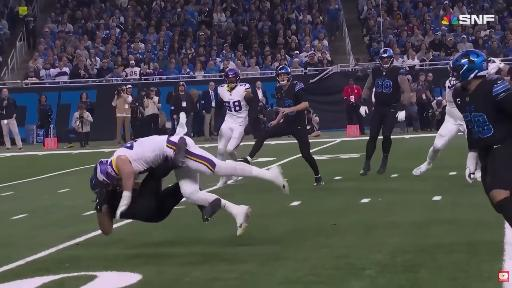Helmet: (449, 50, 487, 83), (94, 159, 117, 183), (90, 166, 103, 193), (224, 68, 240, 87), (379, 48, 393, 68), (276, 66, 291, 84), (446, 76, 457, 88)
Jersey: (453, 76, 511, 150), (109, 136, 169, 173), (371, 65, 405, 106), (218, 83, 250, 124), (276, 82, 305, 107), (446, 81, 463, 122), (96, 191, 121, 217)
Player: (98, 136, 288, 217), (450, 50, 511, 225), (242, 66, 323, 185), (360, 49, 410, 175), (413, 78, 466, 175), (120, 162, 182, 222), (216, 68, 251, 161)
